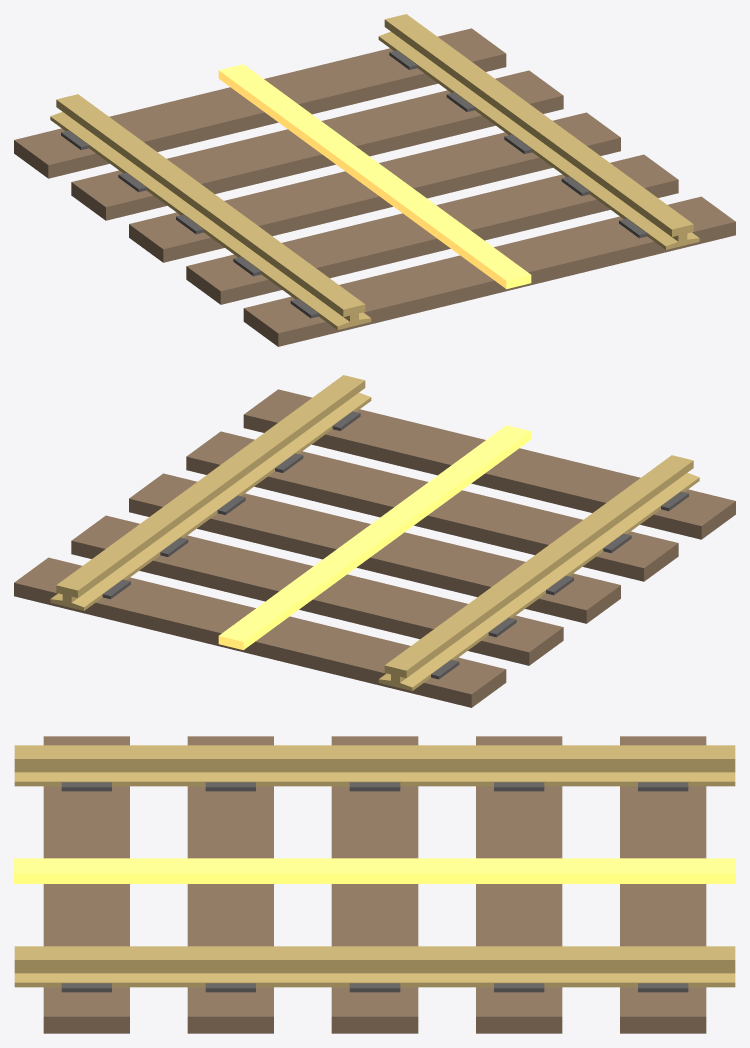
File: powered_rail_on.gltf
3 views of the same model, one above another, from view 1: azimuth 30°, elevation 25°; view 2: azimuth 150°, elevation 25°; view 3: azimuth 270°, elevation 25° (orthographic). The views are drawn at different scales.
Visible parts, largest first — view 1: powered_rail_on; view 2: powered_rail_on; view 3: powered_rail_on.
Boxes of the visible parts, x1,y1,x2,y2 form: powered_rail_on: (14,14,735,346); powered_rail_on: (14,375,735,707); powered_rail_on: (14,736,735,1033).
Size of the model in its own units: 0.92 by 0.0625 by 1.
